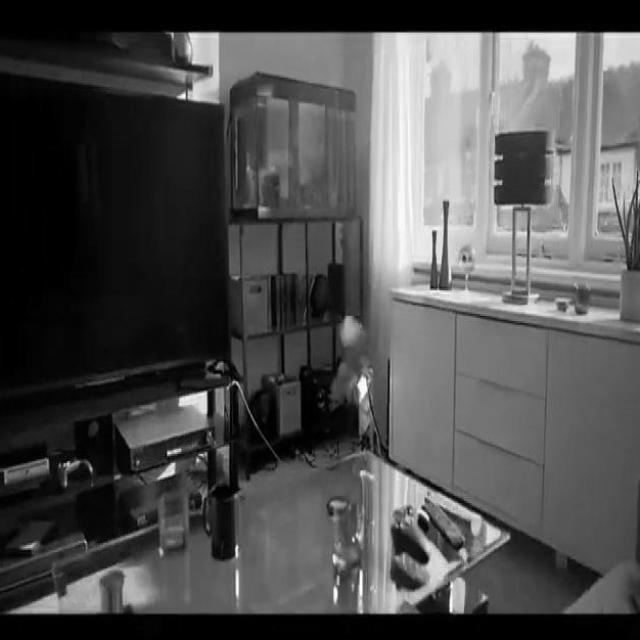fire: (329, 308, 374, 352)
smoke: (354, 371, 372, 404)
